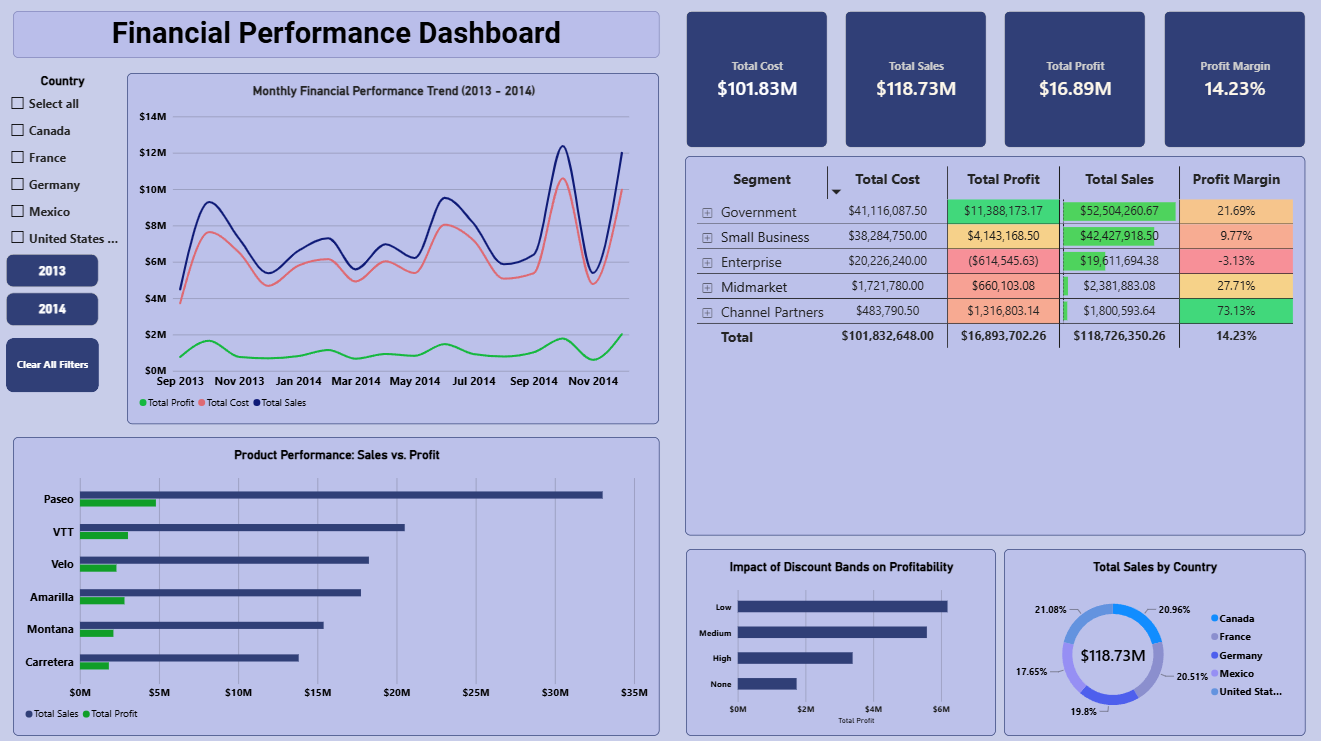

This screenshot's page, from the dashboard's own definition file:
{"tool":"powerbi","page":{"name":"Page 1","canvas":[1920,1080],"ordinal":0},"visuals":[{"type":"cardVisual","fields":{"Data":["financials.Total Cost"]},"box":[998.4,17.7,205.4,198.6],"z":0},{"type":"cardVisual","fields":{"Data":["financials.Total Sales"]},"box":[1228.3,17.7,205.4,198.6],"z":1000},{"type":"cardVisual","fields":{"Data":["financials.Total Profit"]},"box":[1459.5,17.7,205.4,198.6],"z":2000},{"type":"cardVisual","fields":{"Data":["financials.Profit Margin"]},"box":[1690.7,17.7,205.4,198.6],"z":3000},{"type":"lineChart","title":"Monthly Financial Performance Trend (2013 - 2014)","fields":{"Category":["Dim_Date.Year Month"],"Y":["financials.Total Profit","financials.Total Cost","financials.Total Sales"]},"box":[189.1,107.5,771.2,508.7],"z":4000},{"type":"advancedSlicerVisual","fields":{"Values":["Dim_Date.Year"]},"box":[13.6,370,134.7,104.7],"z":5000},{"type":"pivotTable","fields":{"Rows":["financials.Segment","financials.Country"],"Values":["financials.Total Cost","financials.Total Profit","financials.Total Sales","financials.Profit Margin"]},"box":[997,227.2,899.1,549.5],"z":6000},{"type":"textbox","box":[23.1,17.7,937.2,68],"z":7000},{"type":"slicer","title":"Country","fields":{"Values":["financials.Country"]},"box":[13.6,107.5,164.6,284.3],"z":8000},{"type":"clusteredBarChart","title":"Product Performance: Sales vs. Profit","fields":{"Category":["financials.Product"],"Y":["financials.Total Sales","financials.Total Profit"]},"box":[23.1,635.2,937.2,432.5],"z":9000},{"type":"clusteredBarChart","title":"Impact of Discount Bands on Profitability","fields":{"Category":["financials.Discount Band"],"Y":["financials.Total Profit"]},"box":[998.4,797.1,448.9,270.7],"z":10000},{"type":"actionButton","box":[13.6,491,134.7,78.9],"z":11000},{"type":"donutChart","fields":{"Y":["financials.Total Sales"],"Category":["financials.Country"]},"box":[1459.5,797.1,436.6,270.7],"z":12000}]}

Visuals, with their boxes in screenshot pixels (x1, y1, x2, y2), scaled from the page's 1920x1080 canvas onto the 1321x741 screenshot:
cardVisual - financials.Total Cost: <box>687,12,828,148</box>
cardVisual - financials.Total Sales: <box>845,12,986,148</box>
cardVisual - financials.Total Profit: <box>1004,12,1145,148</box>
cardVisual - financials.Profit Margin: <box>1163,12,1305,148</box>
"Monthly Financial Performance Trend (2013 - 2014)" lineChart: <box>130,74,661,423</box>
advancedSlicerVisual - Dim_Date.Year: <box>9,254,102,326</box>
pivotTable - financials.Segment x financials.Country: <box>686,156,1305,533</box>
textbox: <box>16,12,661,59</box>
"Country" slicer: <box>9,74,123,269</box>
"Product Performance: Sales vs. Profit" clusteredBarChart: <box>16,436,661,733</box>
"Impact of Discount Bands on Profitability" clusteredBarChart: <box>687,547,996,733</box>
actionButton: <box>9,337,102,391</box>
donutChart - financials.Total Sales x financials.Country: <box>1004,547,1305,733</box>
